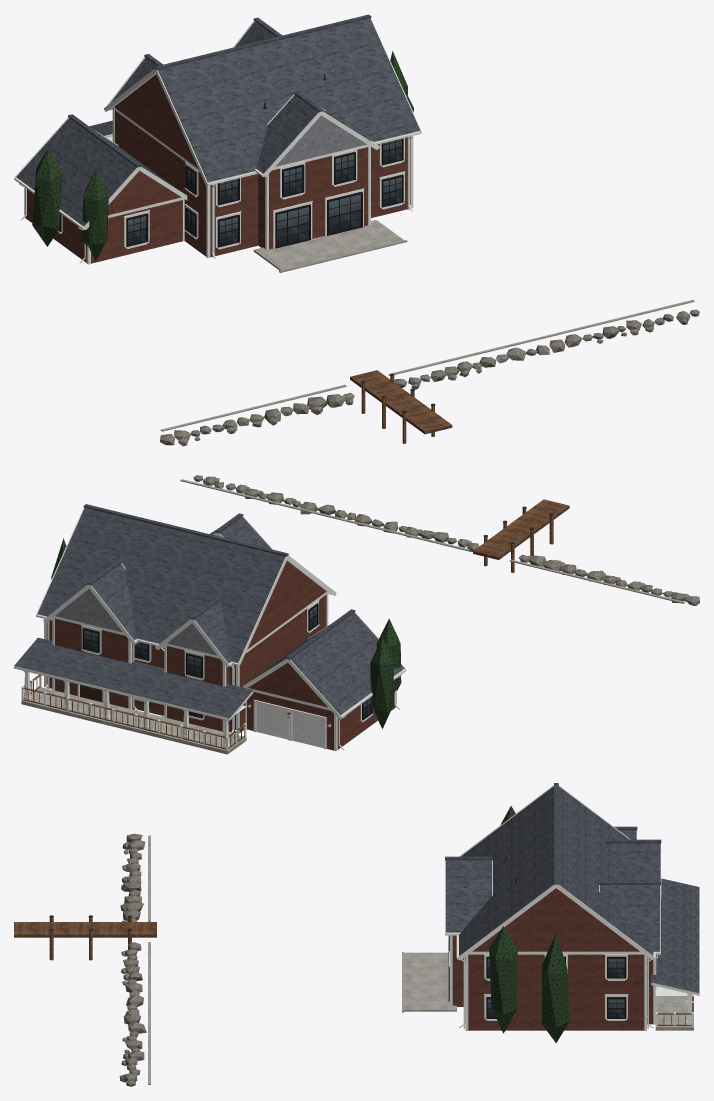
File: lot-8049.fbx
3 views of the same model, one above another, from view 1: azimuth 30°, elevation 25°; view 2: azimuth 150°, elevation 25°; view 3: azimuth 270°, elevation 25° (orthographic). The views are drawn at different scales.
Visible parts, largest first — view 1: lot-8049_LOD0; view 2: lot-8049_LOD0; view 3: lot-8049_LOD0.
Boxes of the visible parts, x1,y1,x2,y2 form: lot-8049_LOD0: (14,14,699,446); lot-8049_LOD0: (14,475,699,754); lot-8049_LOD0: (14,783,699,1086).
Size of what is drawn, in the model's own units: 39.6 by 12.48 by 45.54.
2 materials, 2 textured.
